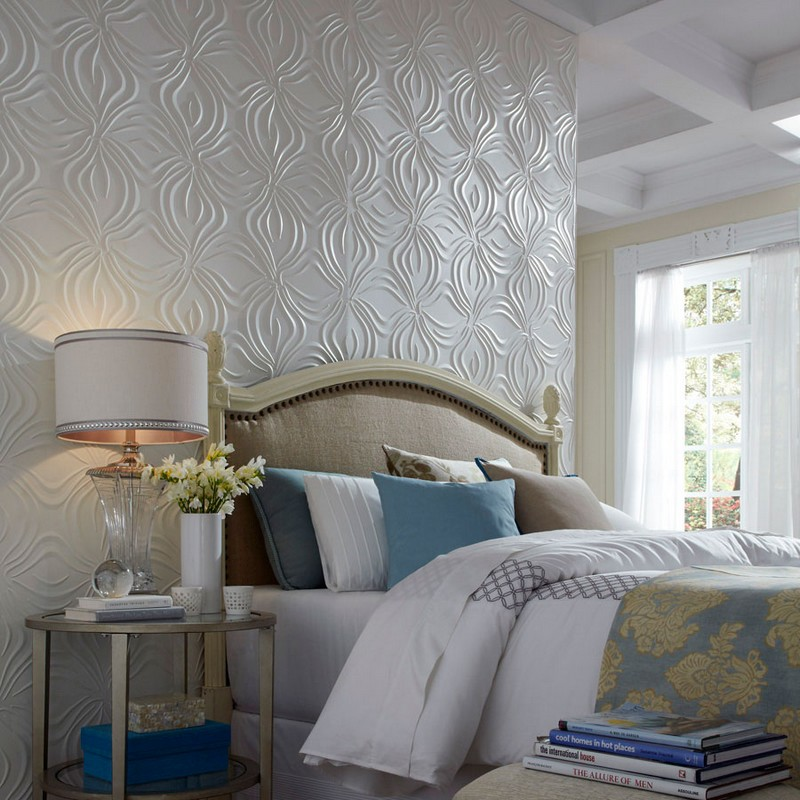bed: (210, 331, 800, 757)
lamp: (49, 324, 212, 592)
stool: (31, 595, 278, 788)
